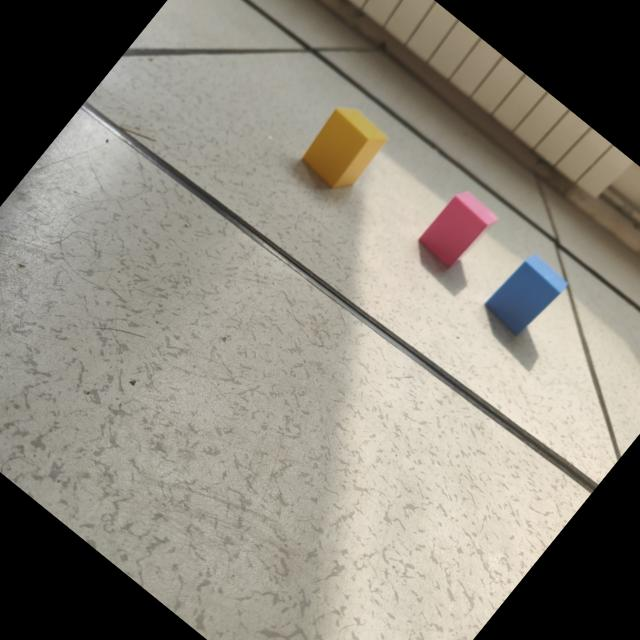blue: (483, 256, 566, 338)
pink: (416, 193, 498, 271)
yellow: (300, 108, 387, 191)
